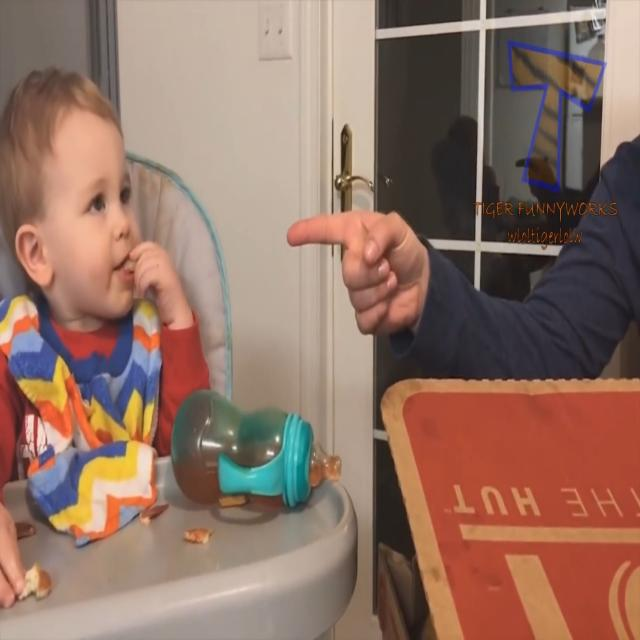safe: (0, 62, 212, 477)
